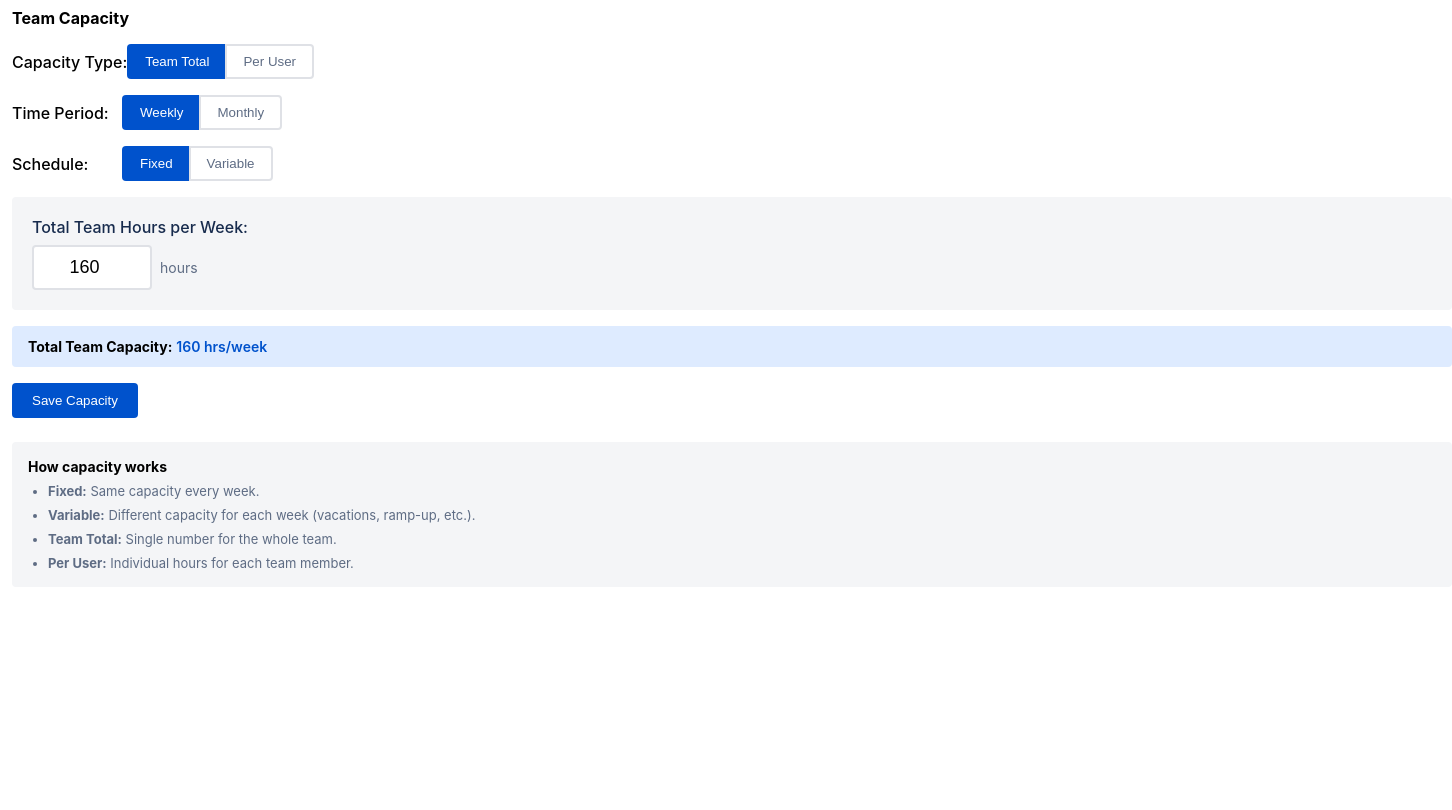
Test: CapacityPanel › Capacity Type Toggle › shows user selection when Per User is selected
Click the button "Per User". click: (270, 62)
box: [226,44,314,79]
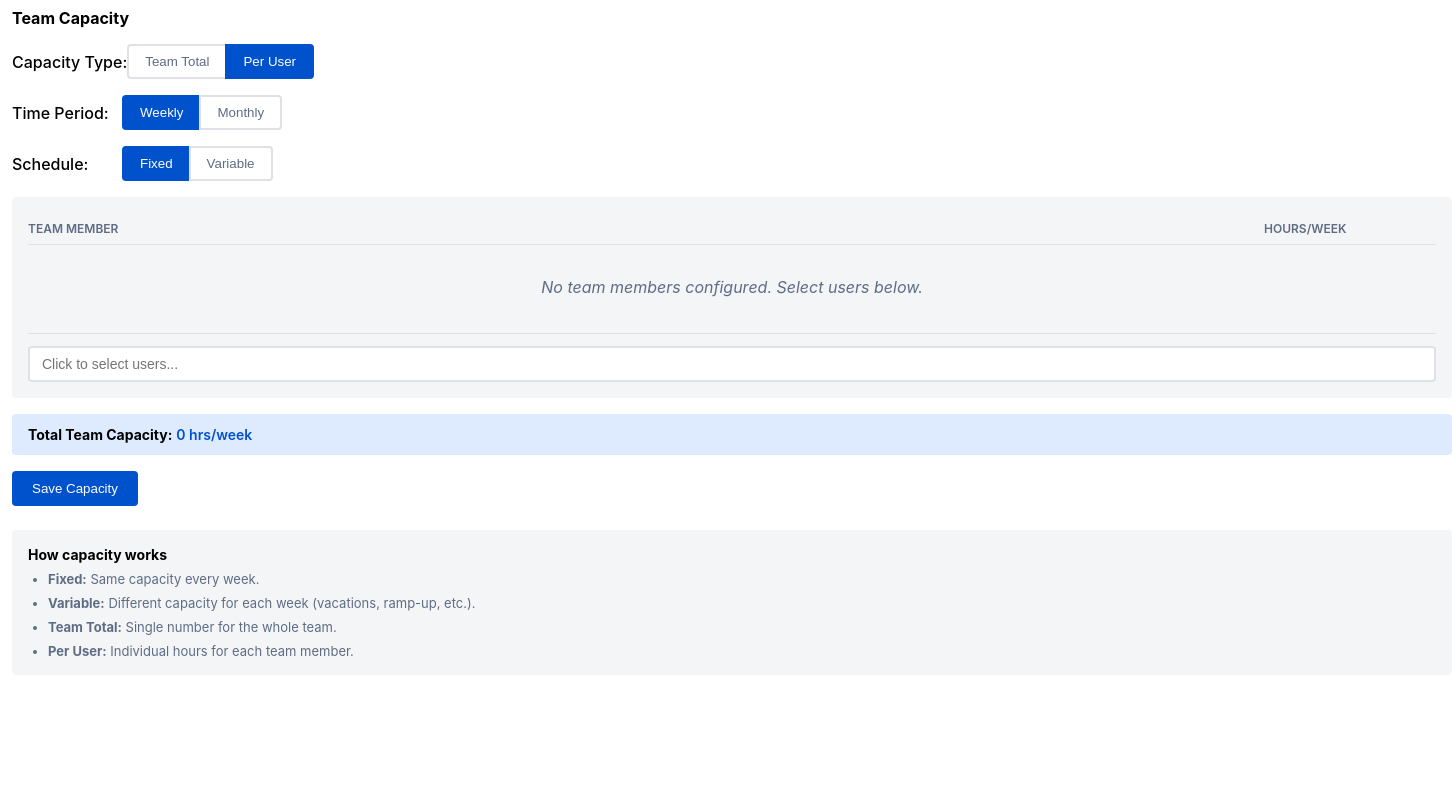
Now the text "No team members configured. Select users below." is shown, box [541,277,923,297]
